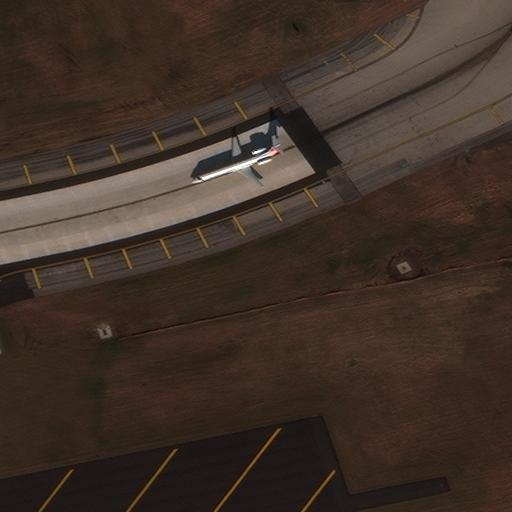Medium Civil Transport: (191, 137, 280, 187)
